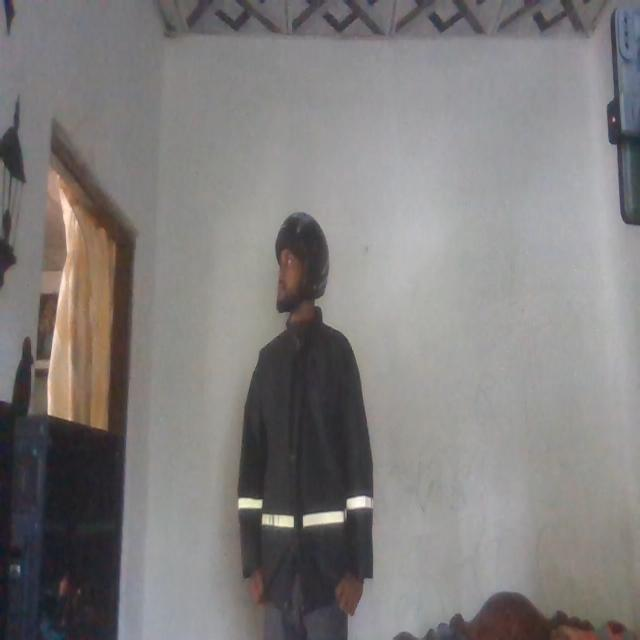Helmet_Wearer: (264, 215, 340, 332)
Jacket_Wearer: (228, 314, 372, 598)
Person: (231, 207, 371, 640)
